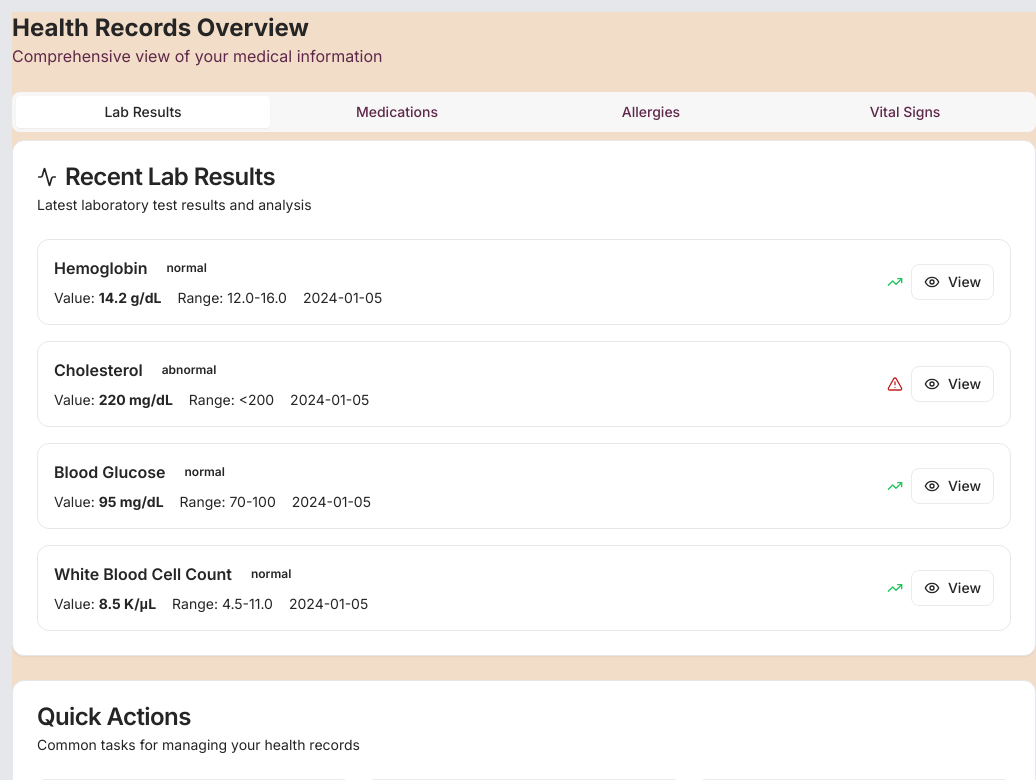
Test case: HealthRecordsOverview › Tab Navigation › should switch to vital signs tab when clicked
What coordinates should you click on to do the following:
click the tab "Vital Signs"
I would click on:
 (905, 112)
Its box is [778, 96, 1032, 128].
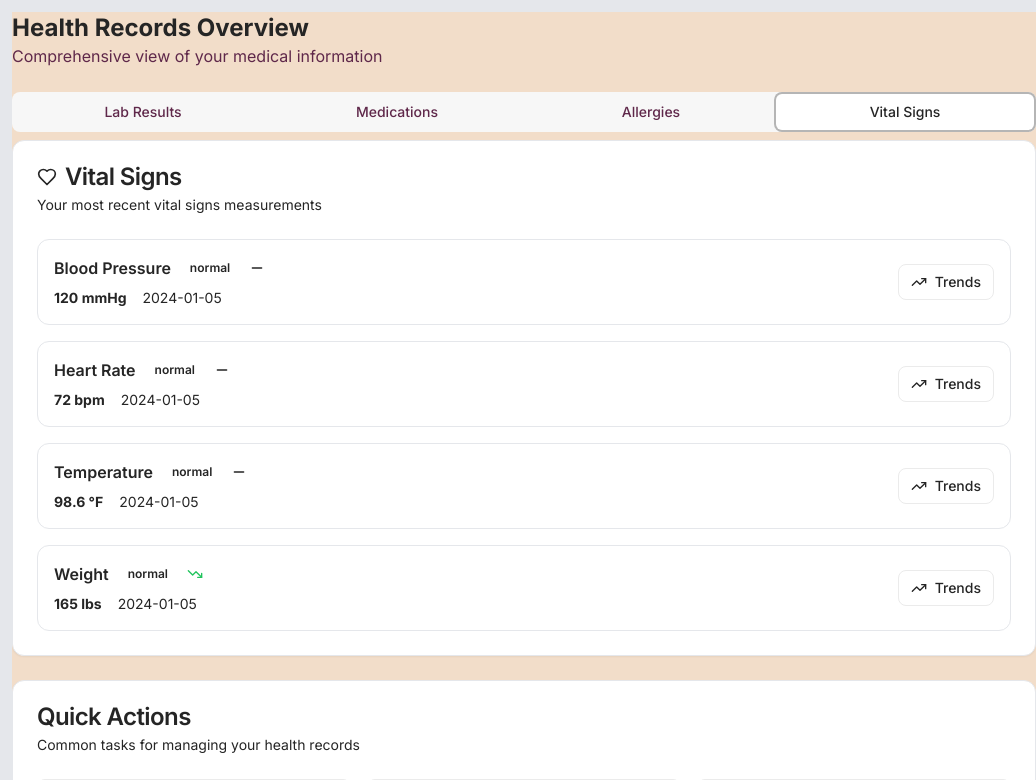
Result: the heading "Vital Signs" is shown at [37, 162, 182, 191]
